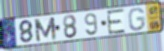8: (18, 19, 35, 44), (62, 14, 78, 40)
9: (84, 13, 99, 37)
E: (106, 8, 127, 36)
G: (128, 7, 146, 32)
M: (33, 16, 58, 43)
